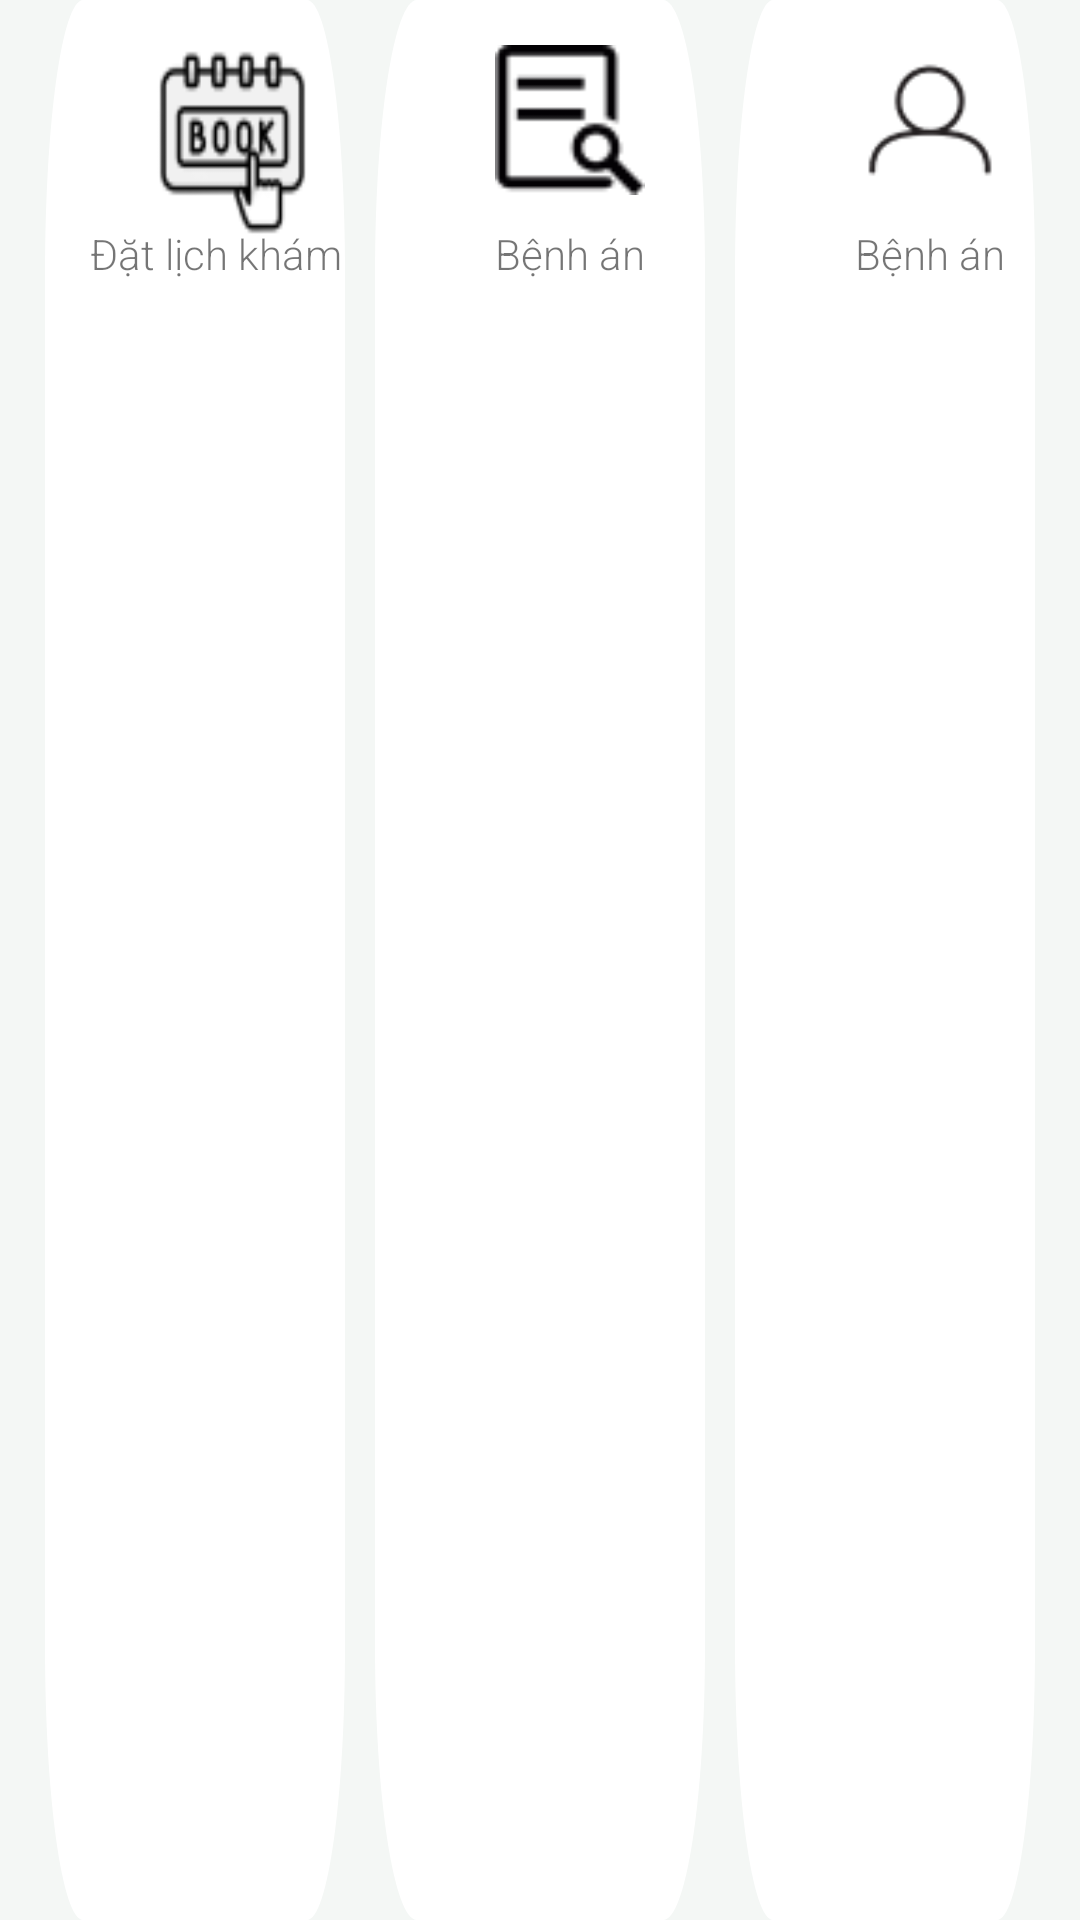

Where icons sit on this 1080x1920 app screen, as (x1, y1, x2, y2):
profile: (868, 64, 992, 175)
